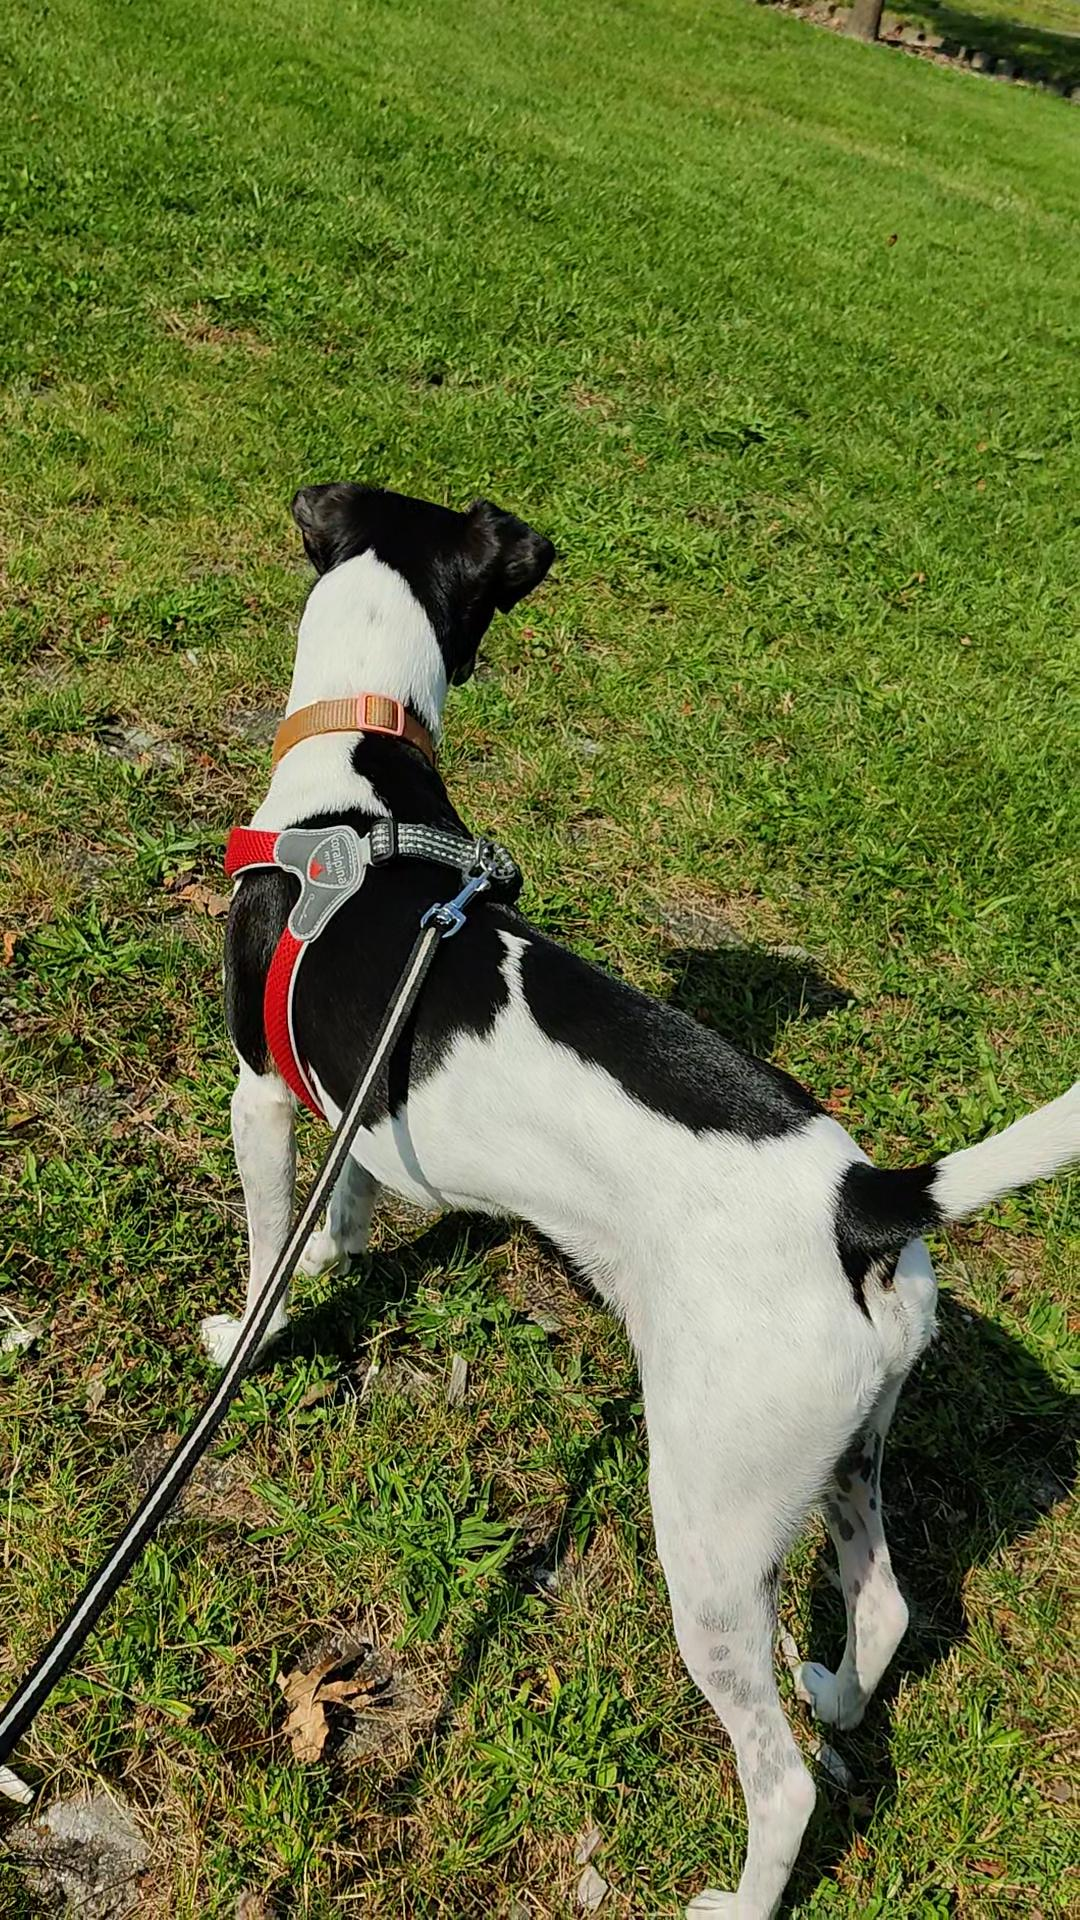Dog: (189, 463, 1079, 1919)
